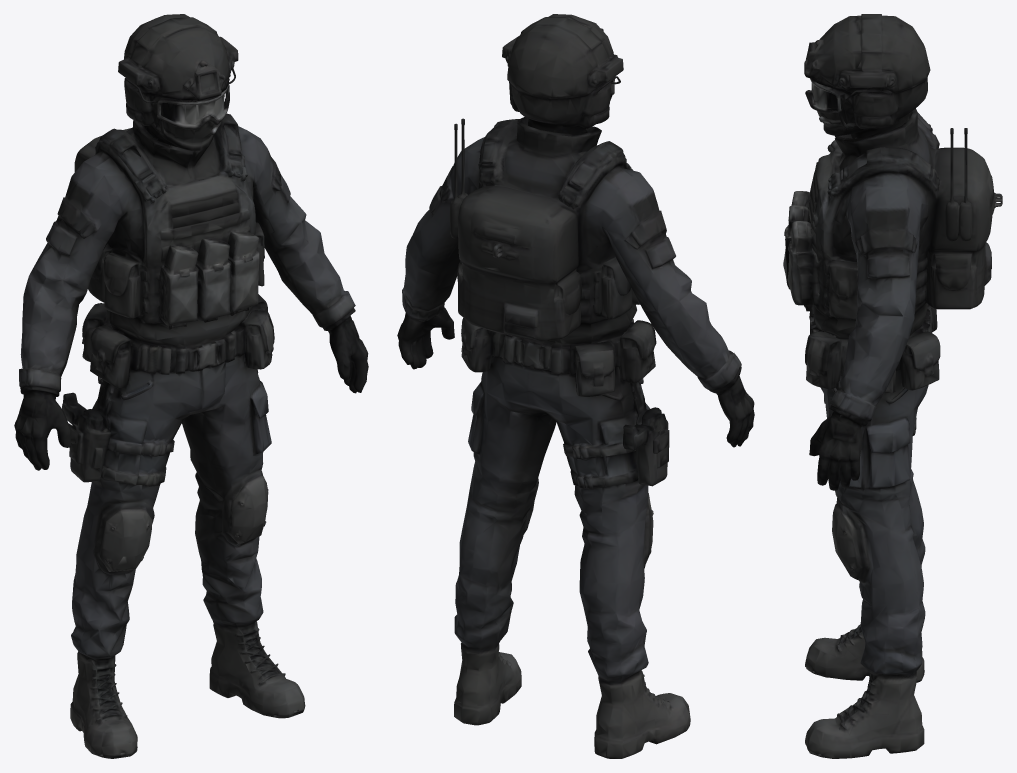
Rendered from enemy_soldier.glb.
3 renders of one model, left to right at view 1: azimuth 30°, elevation 25°; view 2: azimuth 150°, elevation 25°; view 3: azimuth 270°, elevation 25°, orthographic.
Visible parts, largest first — view 1: node_0; view 2: node_0; view 3: node_0.
Boxes of the visible parts, x1,y1,x2,y2 form: node_0: (14, 14, 368, 758); node_0: (397, 14, 754, 758); node_0: (783, 14, 1002, 758).
Bounding box in the file's own units: 0.5881 × 1.14 × 0.3268.
Materials: 1 (1 with a texture image).
